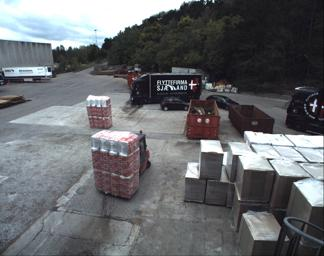rockwool_batts: (90, 125, 139, 195), (85, 92, 112, 127)
